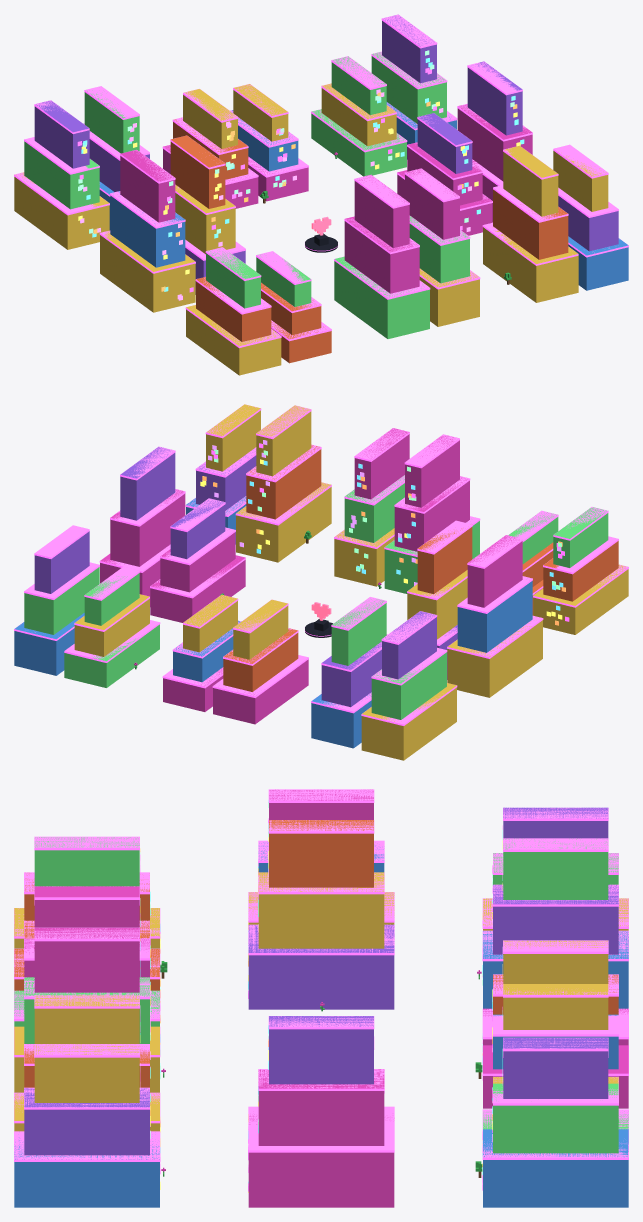
The picture shows the model from 3 angles, top to bottom: view 1: azimuth 30°, elevation 25°; view 2: azimuth 150°, elevation 25°; view 3: azimuth 270°, elevation 25°; orthographic projection. The views are drawn at different scales.
Parts seen in each view (by area): view 1: district_city_pixel.lod0; view 2: district_city_pixel.lod0; view 3: district_city_pixel.lod0.
Boxes of the visible parts, <box> form: district_city_pixel.lod0: <box>14,14,628,375</box>; district_city_pixel.lod0: <box>14,404,628,760</box>; district_city_pixel.lod0: <box>14,789,628,1207</box>.
Size of the model in its own units: 97.1 by 29.96 by 97.1.
